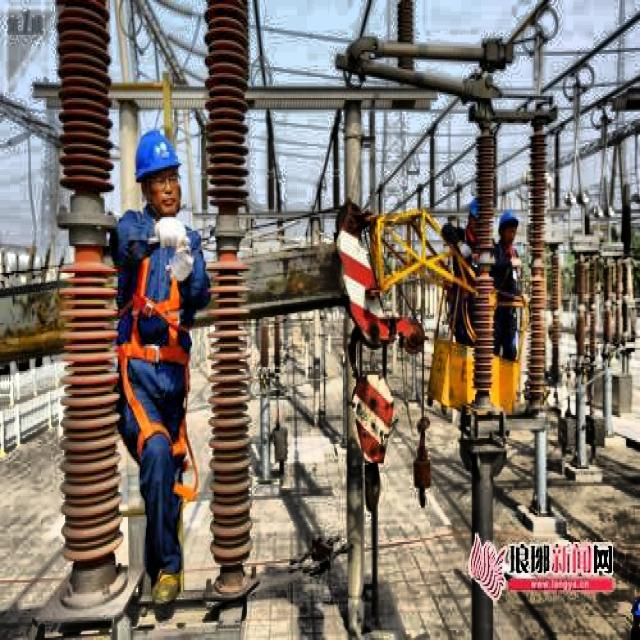helmet: (132, 119, 183, 223), (466, 194, 490, 248), (498, 206, 521, 252)
